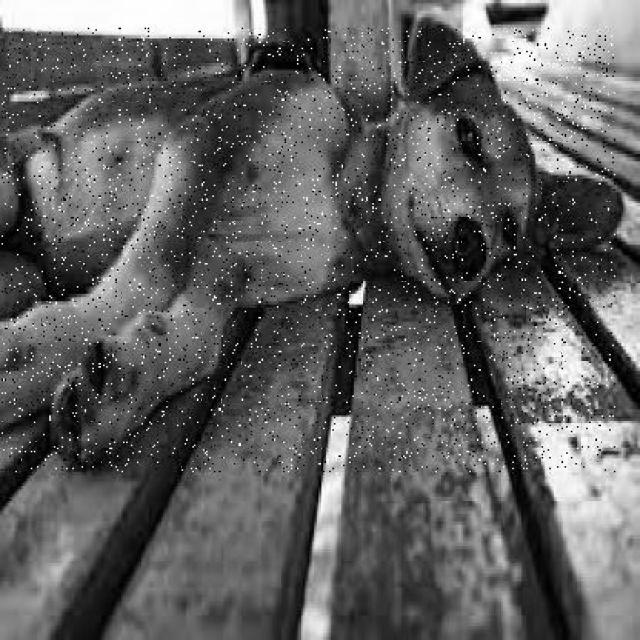Dog: (1, 28, 617, 474)
